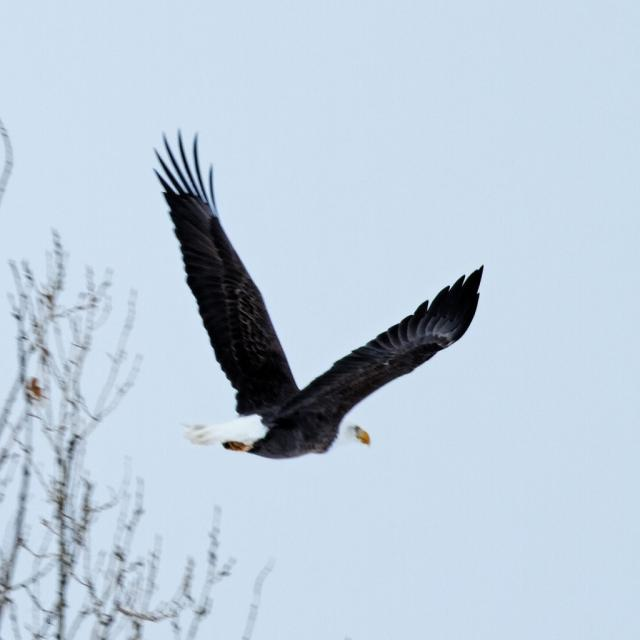bird: (132, 122, 517, 487)
